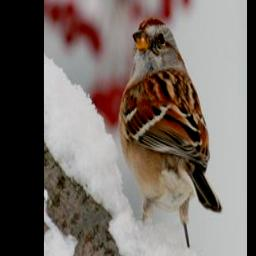Sparrow: (117, 16, 222, 251)
